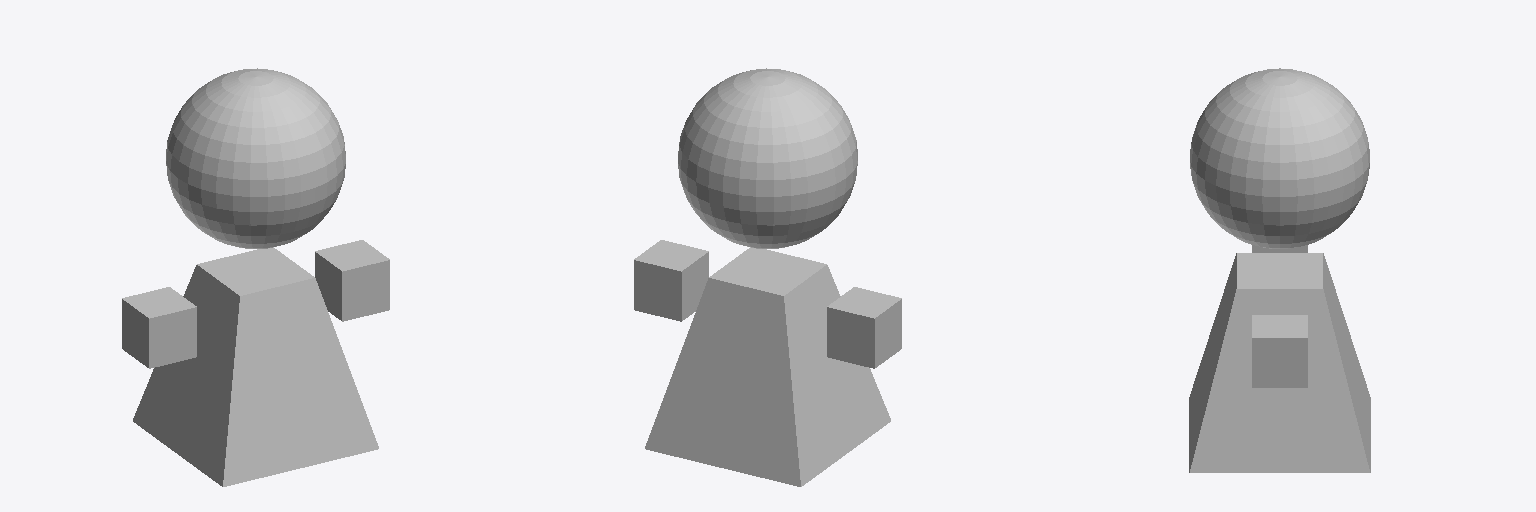
Rendered from player.obj.
3 renders of one model, left to right at view 1: azimuth 30°, elevation 25°; view 2: azimuth 150°, elevation 25°; view 3: azimuth 270°, elevation 25°, orthographic.
Visible parts, largest first — view 1: 立方体; view 2: 立方体; view 3: 立方体.
Part boxes in pixels (bbox=[...]): 立方体: bbox=[122, 68, 389, 486]; 立方体: bbox=[634, 68, 901, 486]; 立方体: bbox=[1189, 68, 1370, 472].
Size of the model in its own units: 3.08 by 4.37 by 2.